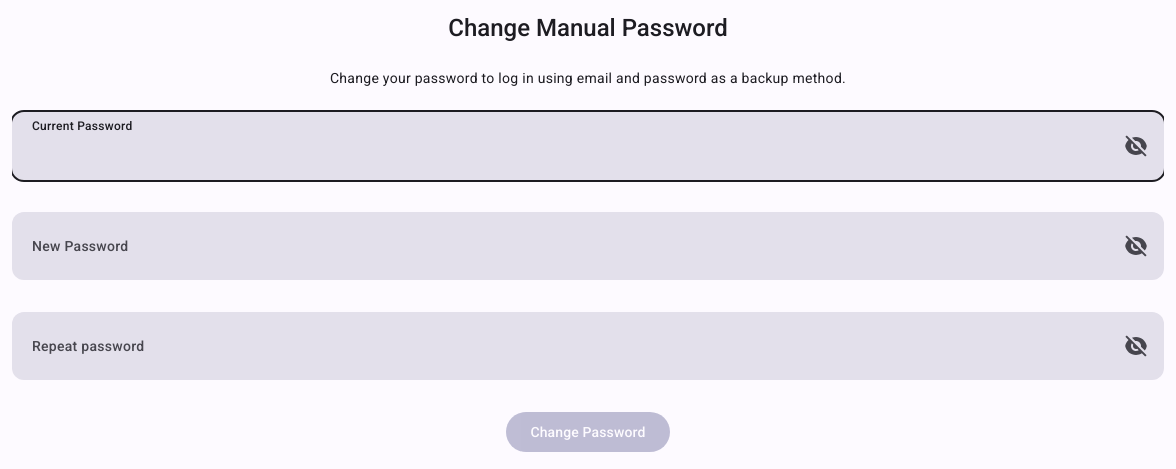
it: ChangePasswordForm Component › shows error when new passwords do not match
Step 1. Type "NewPass123" into the password field labelled "New Password" → (588, 246), box [12, 212, 1164, 280]
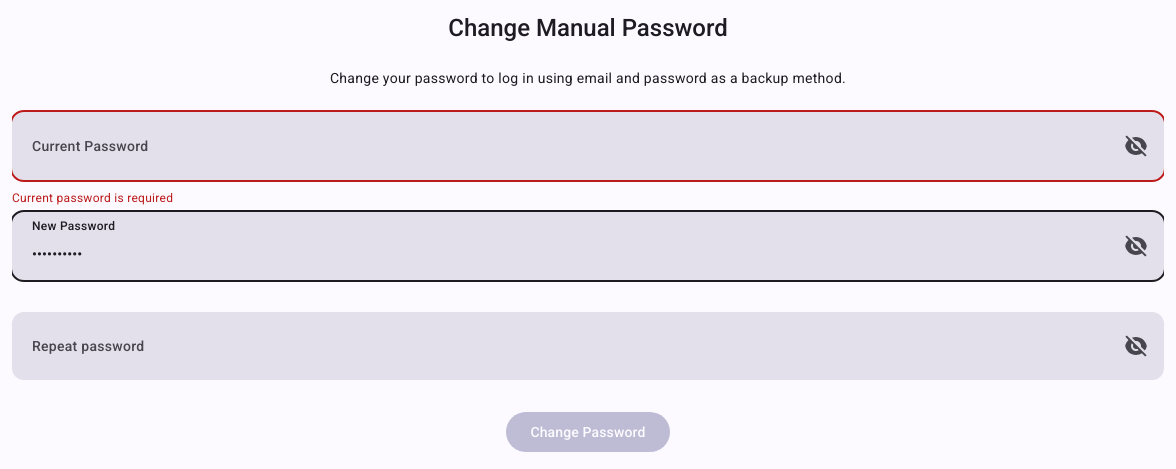
Step 2. Type "DifferentPass123" into the password field labelled "Repeat password" → (588, 346), box [12, 312, 1164, 380]
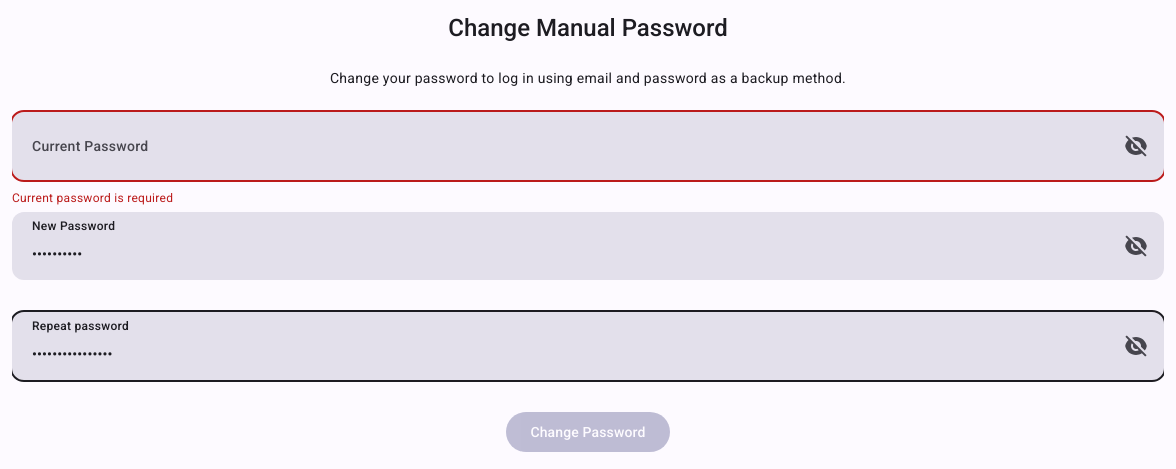
Step 3. Press Tab
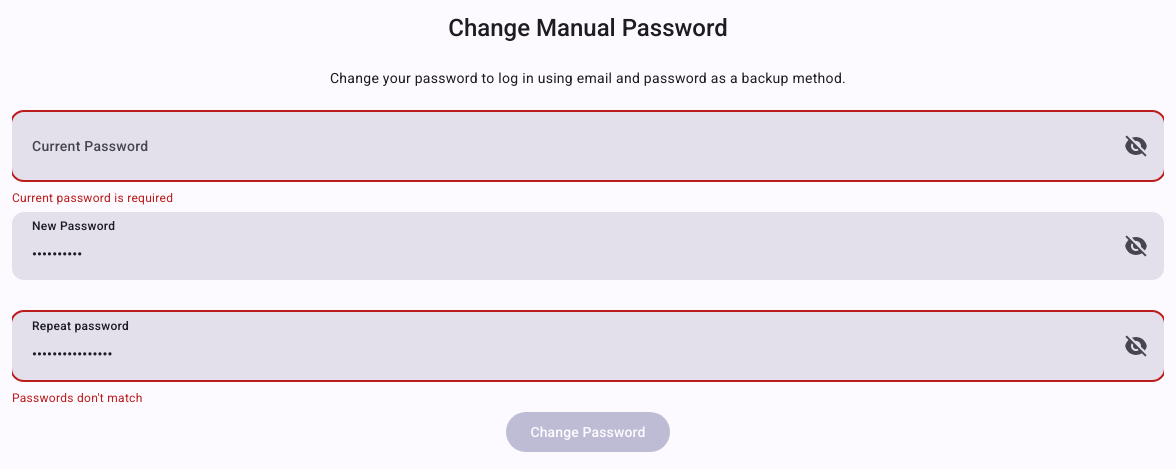
Expected: the text "Passwords don't match" is shown, [12, 388, 143, 408]
